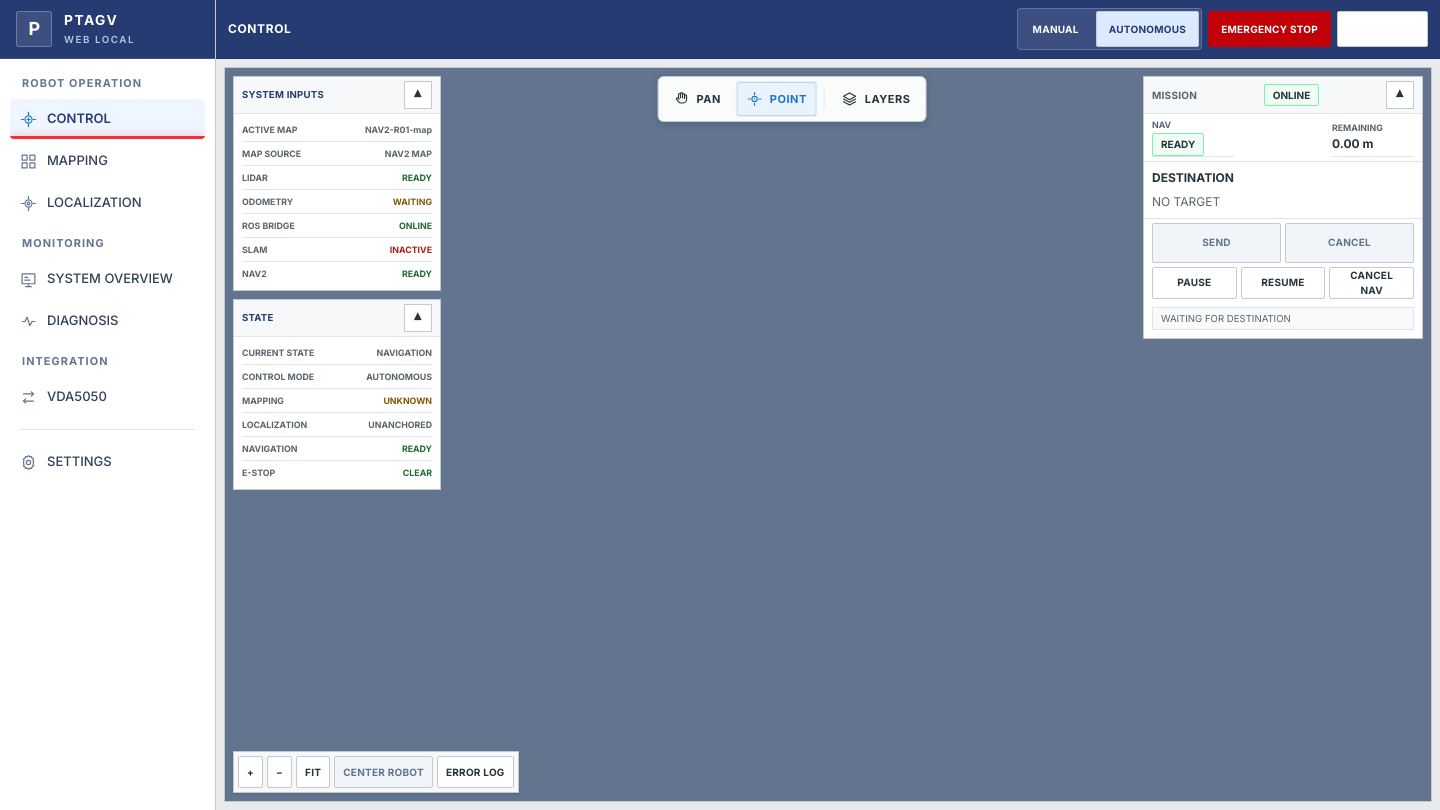
Test case: robot detail route stability › right-click cancels SELECT YAW and returns POINT mode to waiting
Click the drawing named "Active navigation map 2D view". click: (545, 248)
box: x1=225 y1=68 x2=865 y2=428
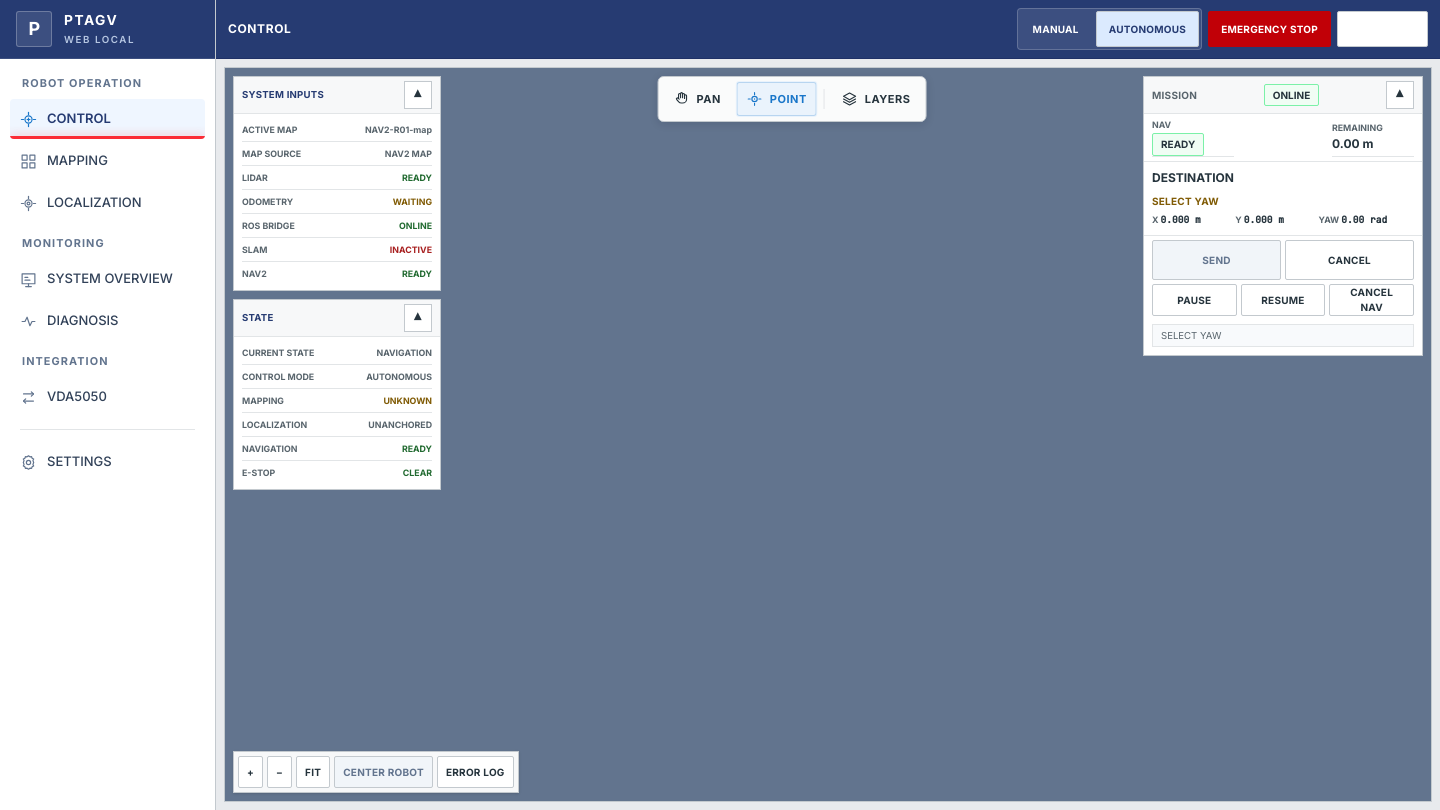
Right-click the drawing named "Active navigation map 2D view" at (545, 248), box x1=225 y1=68 x2=865 y2=428
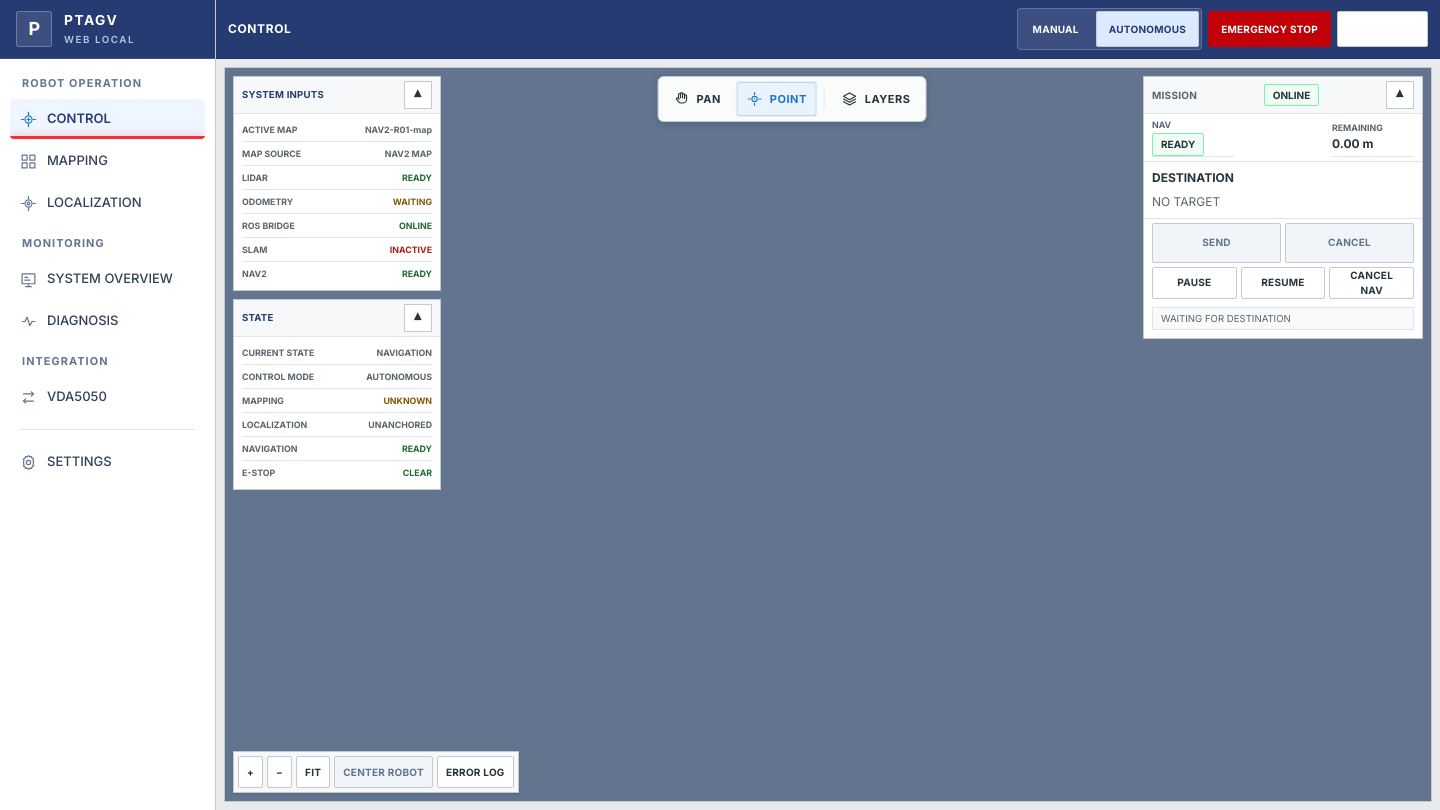
Now the text with test id "selected-point-status" is gone
